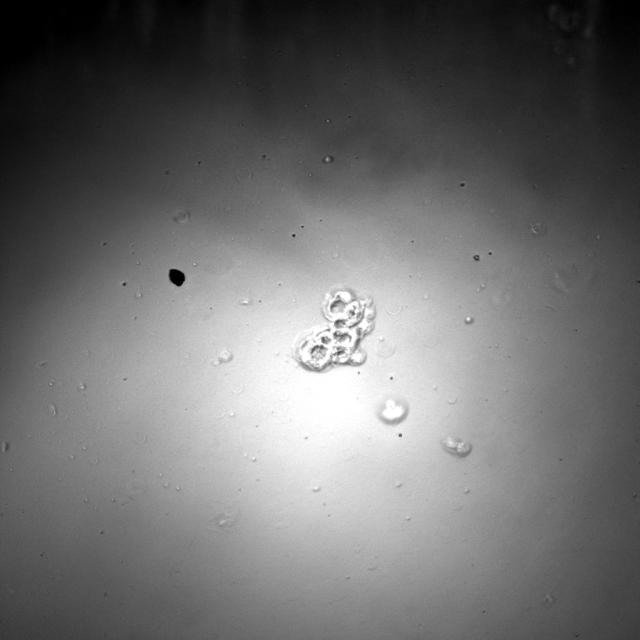organoid: (296, 289, 374, 371), (376, 394, 408, 424), (442, 435, 471, 456)
